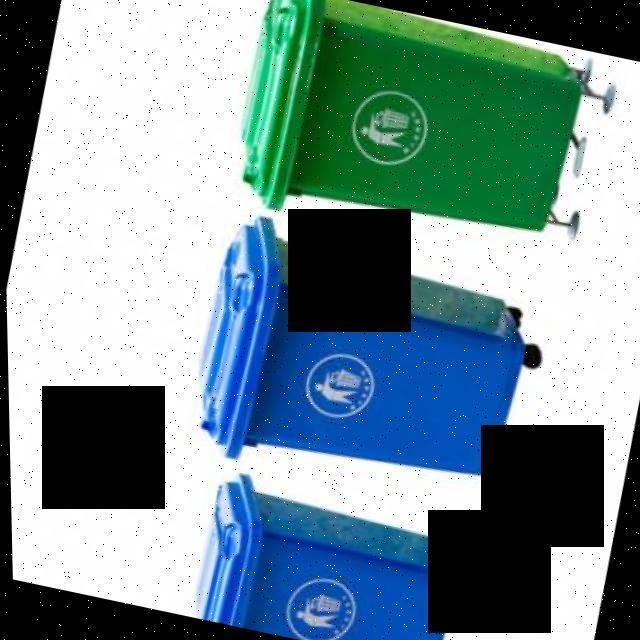bin: (164, 203, 581, 529), (210, 0, 640, 281), (170, 455, 516, 640)
